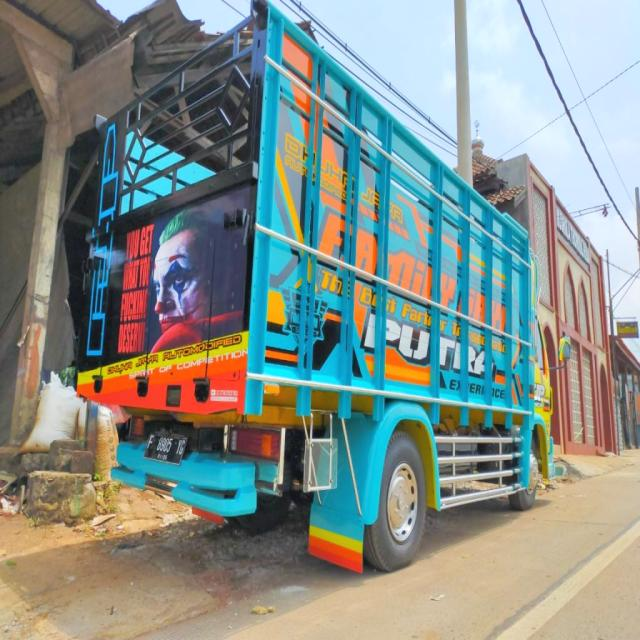truck: (38, 1, 574, 578)
